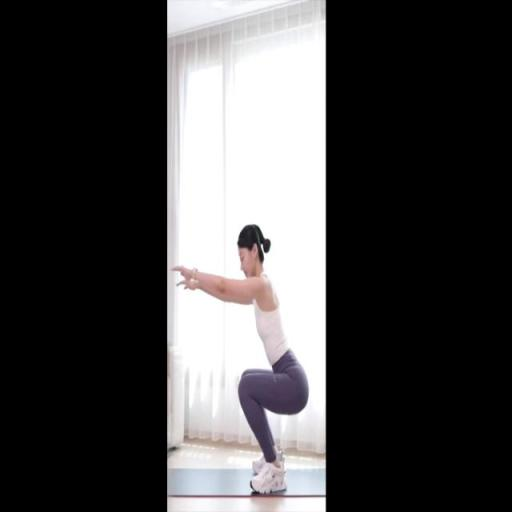Normal_BrenchPress: (172, 224, 310, 496)
